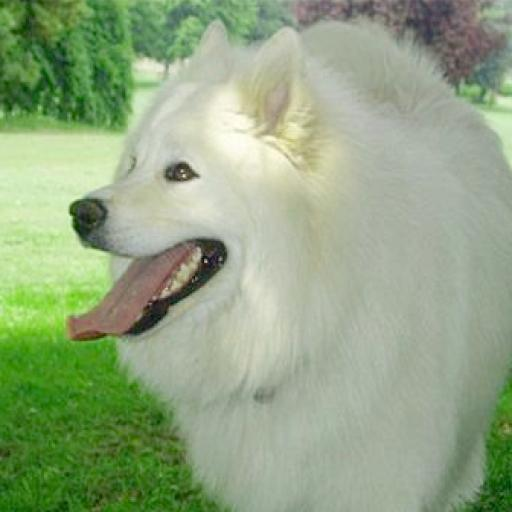dog_face: (57, 24, 316, 369)
